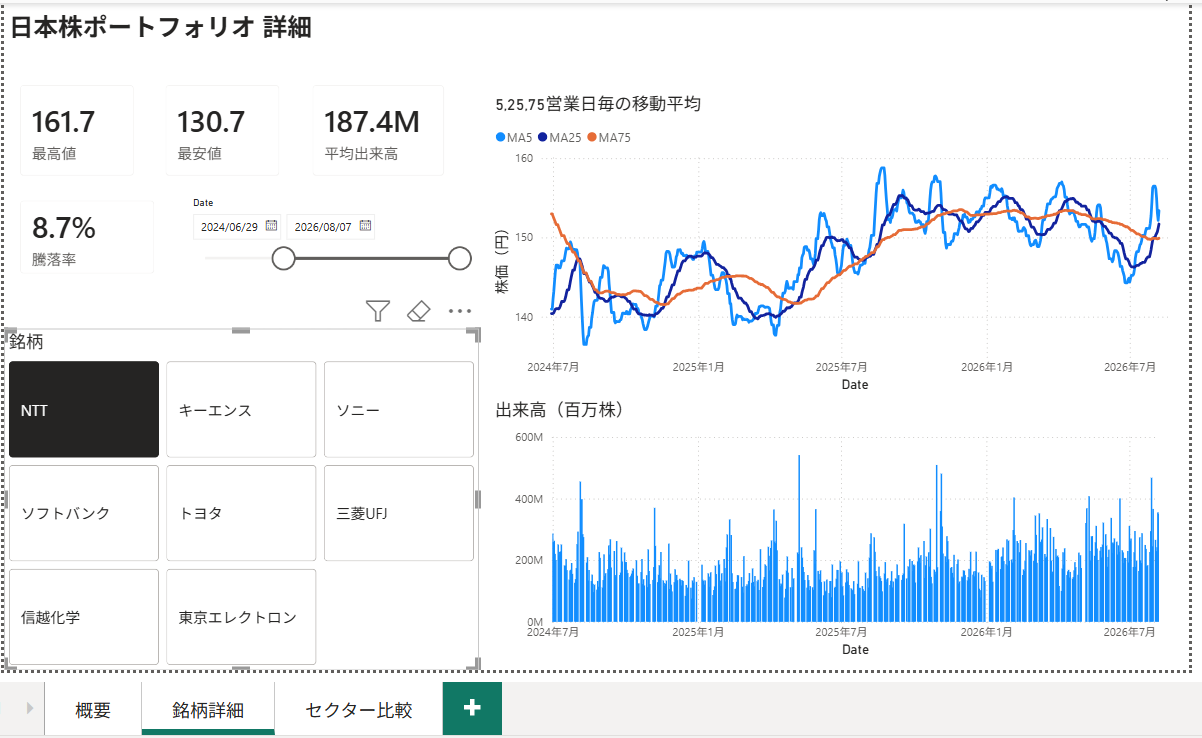

The dashboard page shown, as its layout file describes it:
{"tool":"powerbi","page":{"name":"銘柄詳細","canvas":[1280,720],"ordinal":1},"visuals":[{"type":"cardVisual","fields":{"Data":["prices.最高値"]},"box":[0,71.6,157.6,132.5],"z":0},{"type":"cardVisual","fields":{"Data":["prices.最安値"]},"box":[157.6,71.6,157.6,132.5],"z":1000},{"type":"cardVisual","fields":{"Data":["prices.平均出来高"]},"box":[315.2,71.6,176.4,132.5],"z":2000},{"type":"advancedSlicerVisual","title":"銘柄","fields":{"Values":["symbols.name"]},"box":[0,351,513.1,369],"z":3000},{"type":"lineChart","title":"5,25,75営業日毎の移動平均","fields":{"Category":["dim_date.Date"],"Y":["prices.MA5","prices.MA30","prices.MA90"]},"box":[523.9,93.1,755.8,330.4],"z":4000},{"type":"clusteredColumnChart","title":"出来高（百万株）","fields":{"Category":["dim_date.Date"],"Y":["Sum(prices.volume)"]},"box":[523.9,423.6,755.8,286.6],"z":5000},{"type":"slicer","fields":{"Values":["dim_date.Date"]},"box":[190.7,204.2,322.4,136.1],"z":6000},{"type":"cardVisual","fields":{"Data":["prices.騰落率"]},"box":[0,195.2,179.1,113.7],"z":7000},{"type":"textbox","box":[0,0,354,48.6],"z":8000}]}

Visuals, with their boxes on the page's 1280x720 design canvas (x1, y1, x2, y2). These are canvas units, not pixel positions in the 1202x738 screenshot, which may show the page scaled, cropped or inside an application window:
cardVisual - prices.最高値: 0:72:158:204
cardVisual - prices.最安値: 158:72:315:204
cardVisual - prices.平均出来高: 315:72:492:204
"銘柄" advancedSlicerVisual: 0:351:513:720
"5,25,75営業日毎の移動平均" lineChart: 524:93:1280:424
"出来高（百万株）" clusteredColumnChart: 524:424:1280:710
slicer - dim_date.Date: 191:204:513:340
cardVisual - prices.騰落率: 0:195:179:309
textbox: 0:0:354:49
